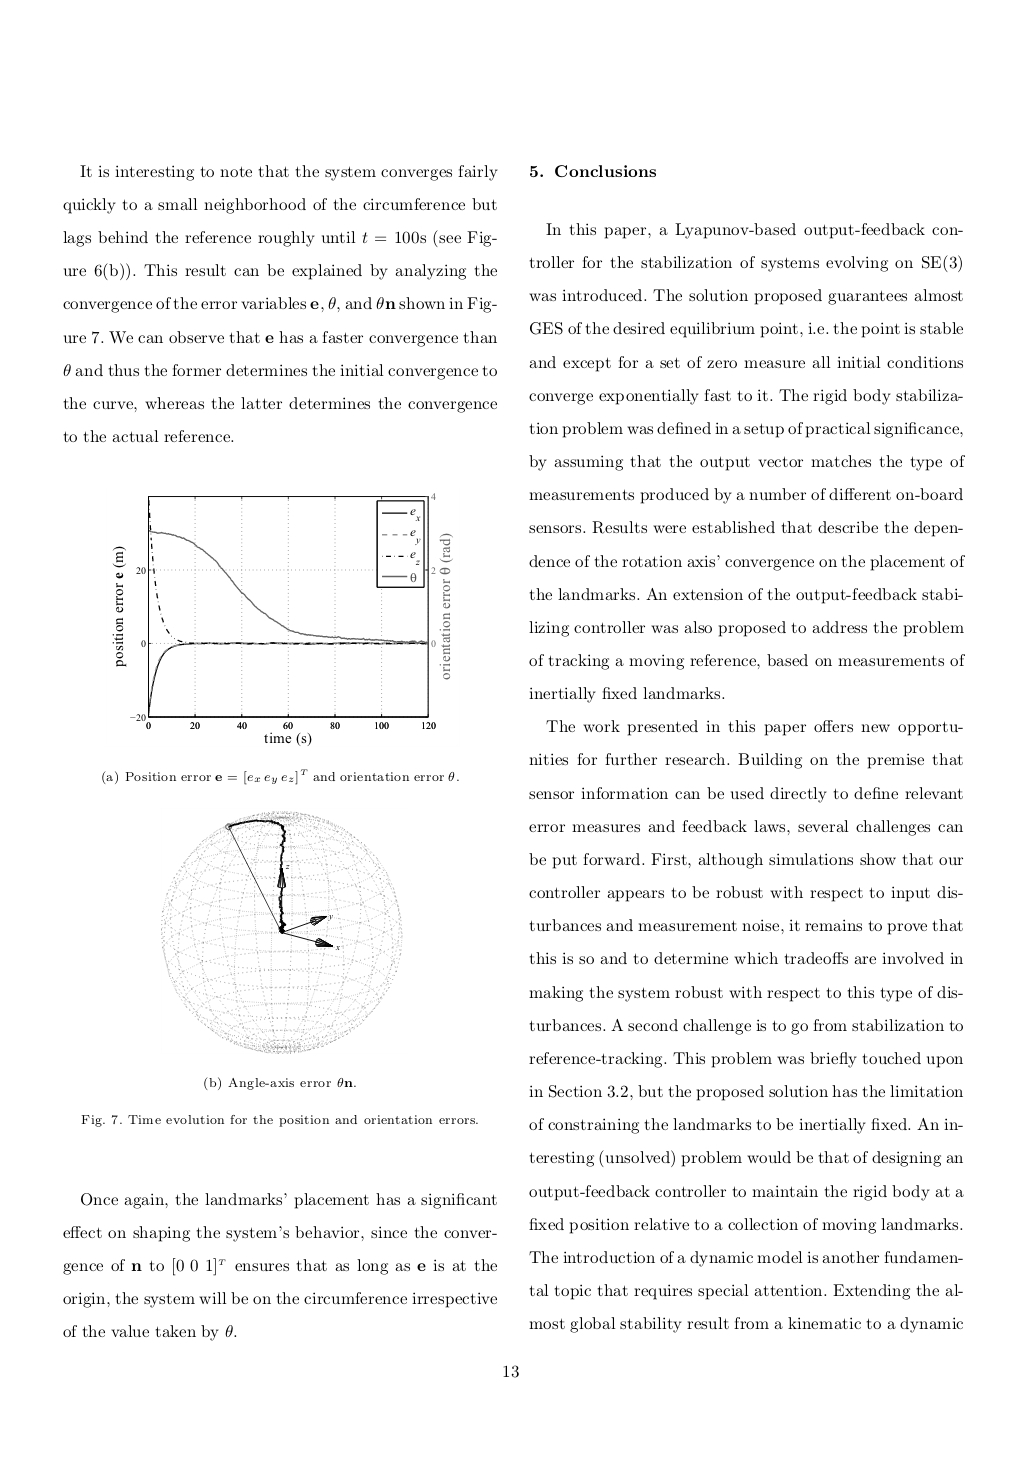figure: (112, 492, 452, 746), (161, 810, 402, 1054)
